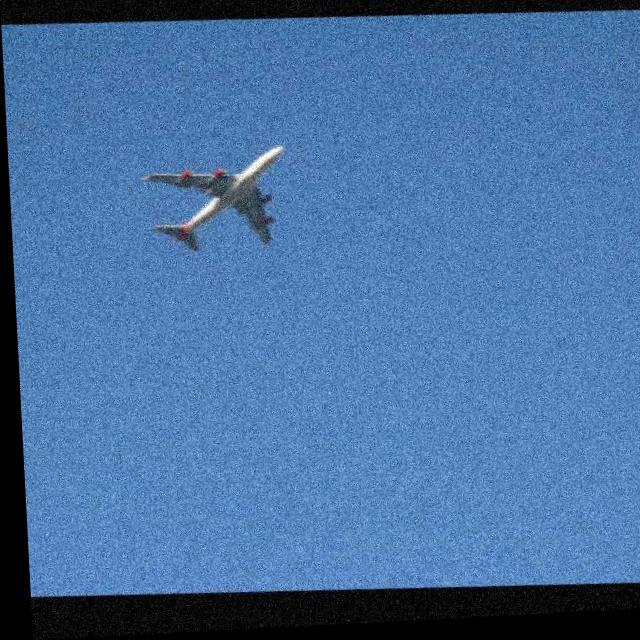airplane: (128, 140, 292, 261)
